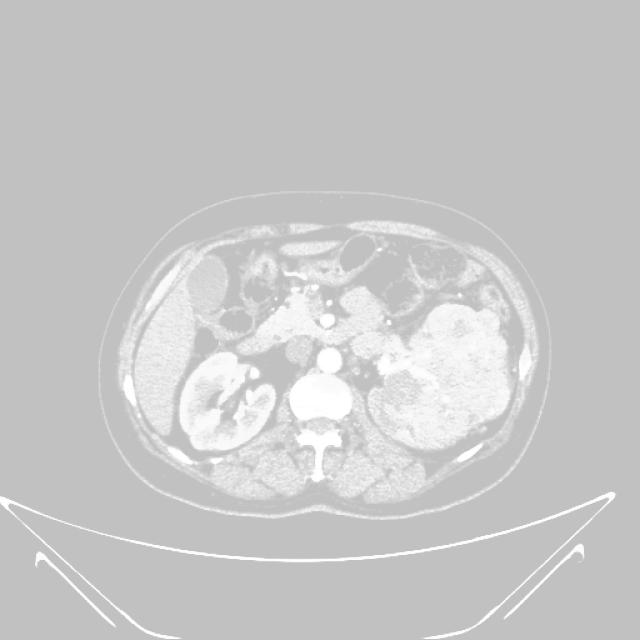TUMOR: (147, 266, 541, 476)
